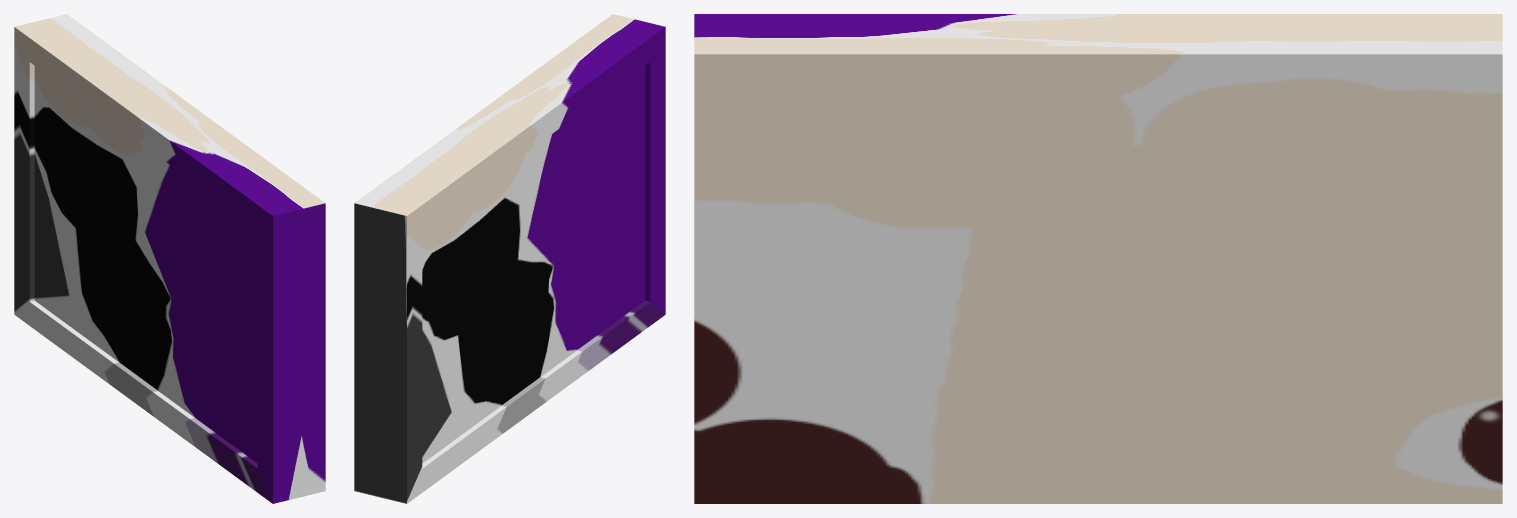
The model's file is quadro.fbx.
The picture shows the model from 3 angles, left to right: view 1: azimuth 30°, elevation 25°; view 2: azimuth 150°, elevation 25°; view 3: azimuth 270°, elevation 25°; orthographic projection. The views are drawn at different scales.
Visible parts, largest first — view 1: quadro; view 2: quadro; view 3: quadro.
Part boxes in pixels (bbox=[...]): quadro: bbox=[14, 14, 325, 503]; quadro: bbox=[354, 14, 665, 503]; quadro: bbox=[694, 14, 1502, 503].
Bounding box in the file's own units: 0.9516 × 4.97 × 8.09.
